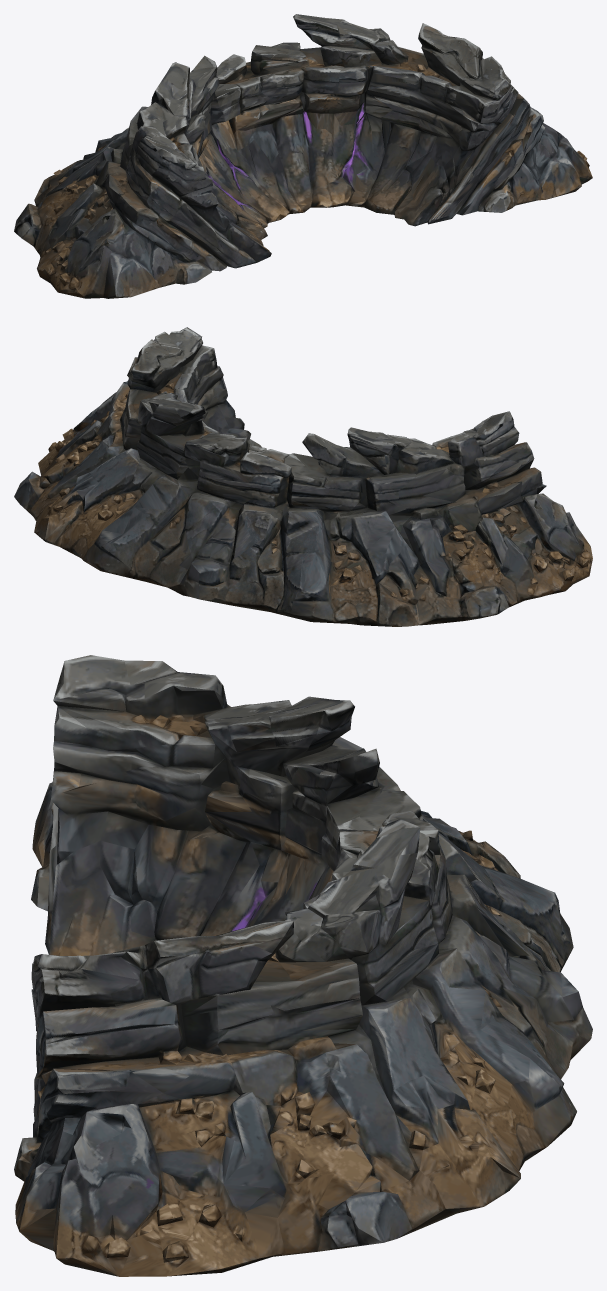
3 renders of one model, top to bottom at view 1: azimuth 30°, elevation 25°; view 2: azimuth 150°, elevation 25°; view 3: azimuth 270°, elevation 25°, orthographic. The views are drawn at different scales.
Parts seen in each view (by area): view 1: crater_rim; view 2: crater_rim; view 3: crater_rim.
Boxes of the visible parts, x1=… form: crater_rim: x1=14, y1=14, x2=592, y2=298; crater_rim: x1=14, y1=327, x2=592, y2=626; crater_rim: x1=14, y1=655, x2=592, y2=1276.
Bounding box in the file's own units: 0.9798 × 0.2579 × 0.5098.
1 material, 1 textured.
